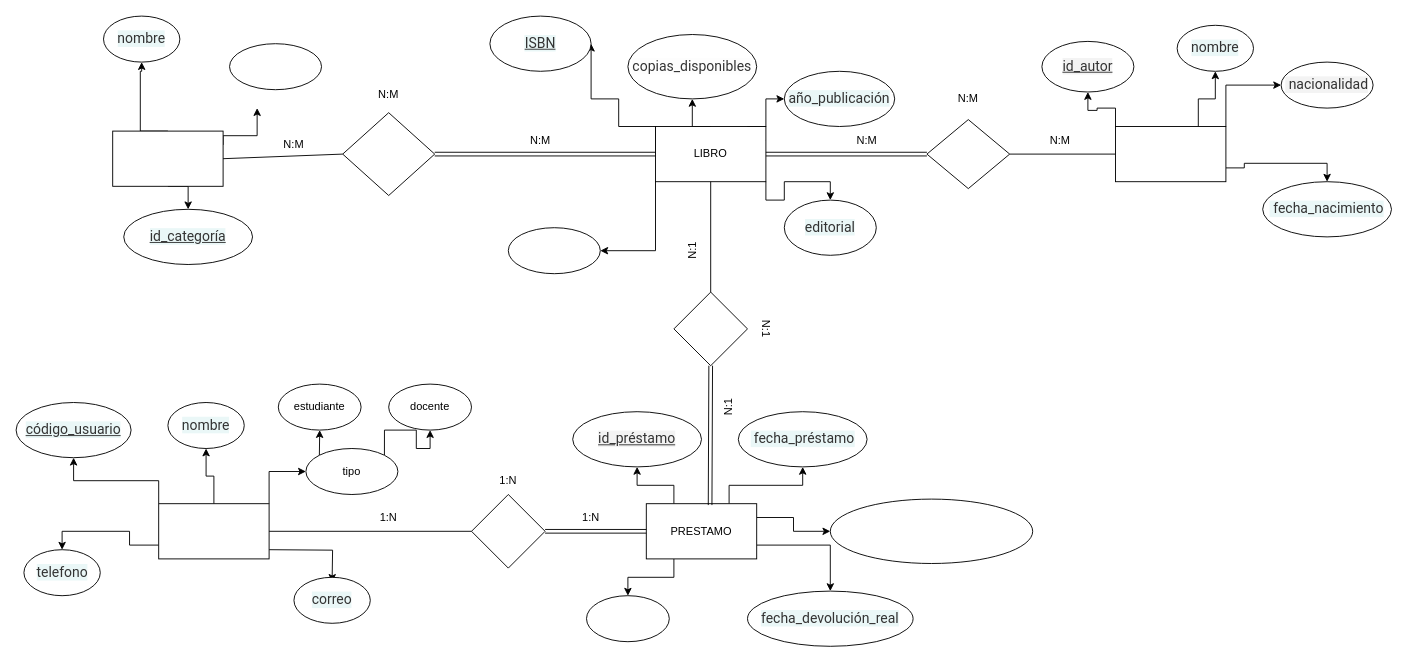
The diagram is 1408 pixels wide and 662 high, and some of its shapes have lost their labels. The centre of each missing label's shape, as x and y in pixels:
AUTOR: the point at 1170,154
CATEGORIA: the point at 167,158
descripcion: the point at 275,66
escribe: the point at 968,154
estado: the point at 627,618
fecha_devolución_esperada: the point at 931,531
incluye: the point at 710,328
pertenece_a: the point at 388,154
realiza: the point at 508,531
título: the point at 553,250
USUARIO: the point at 213,531
